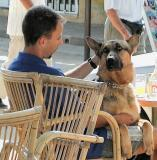German_shepherd: (75, 26, 156, 159)
